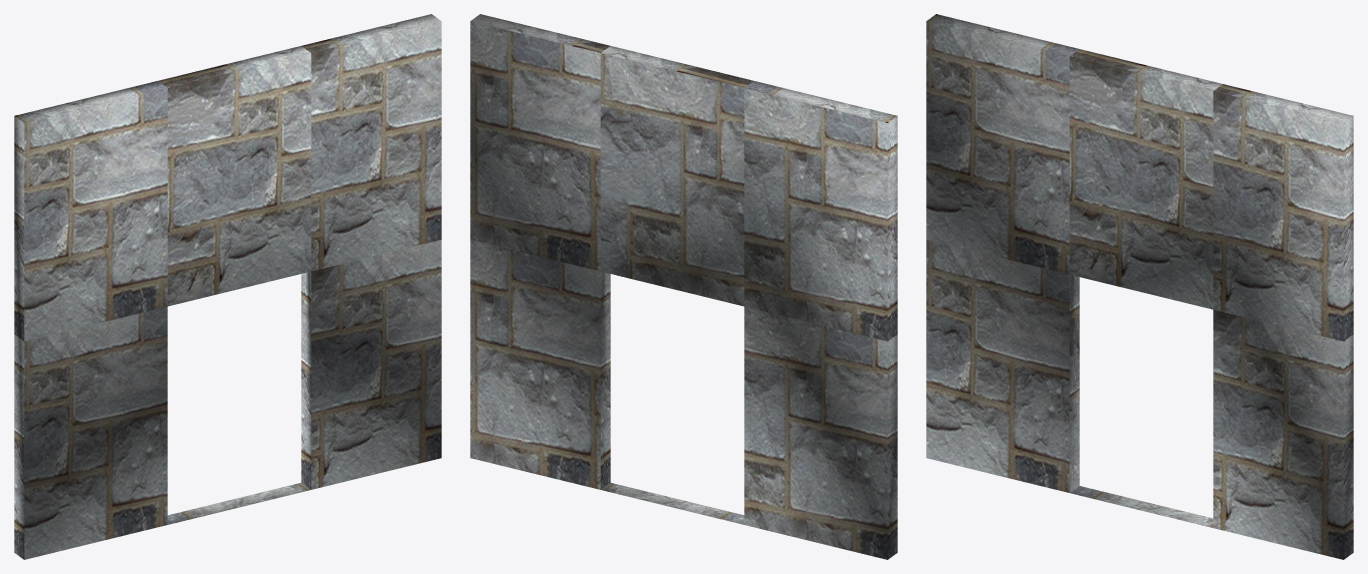
The model's file is doorframe.fbx.
The picture shows the model from 3 angles, left to right: view 1: azimuth 30°, elevation 25°; view 2: azimuth 150°, elevation 25°; view 3: azimuth 330°, elevation 25°; orthographic projection.
Parts seen in each view (by area): view 1: Cube; view 2: Cube; view 3: Cube.
Boxes of the visible parts, x1,y1,x2,y2 form: Cube: (14, 14, 441, 559); Cube: (470, 14, 897, 559); Cube: (926, 14, 1353, 559).
Size of the model in its own units: 8 by 8 by 0.3297.
1 material, 1 textured.
